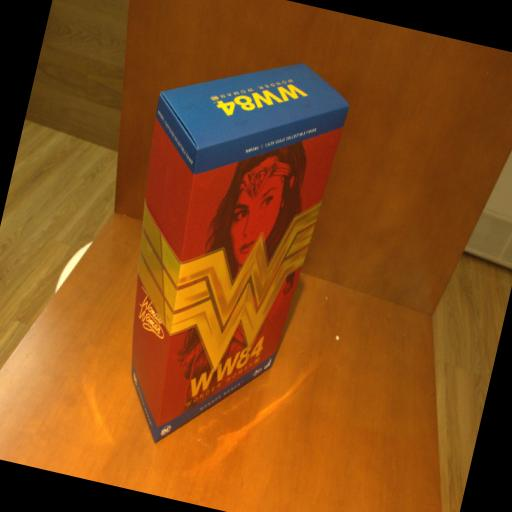WonderWoman: (82, 34, 357, 468)
